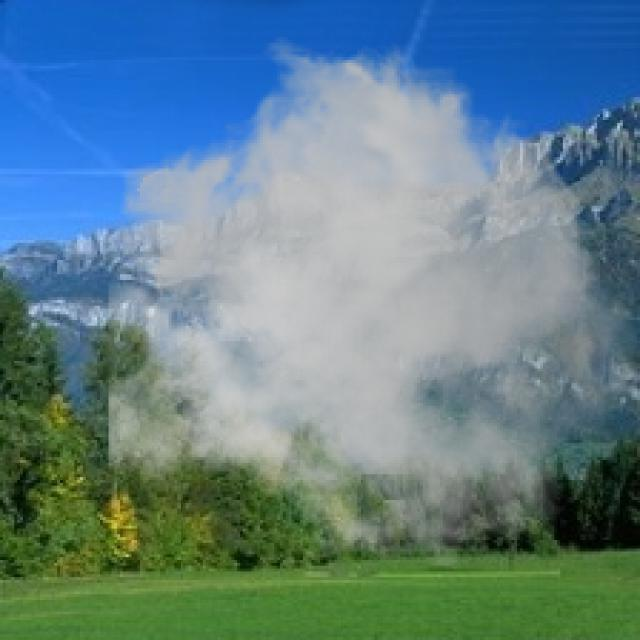smoke: (109, 34, 637, 577)
